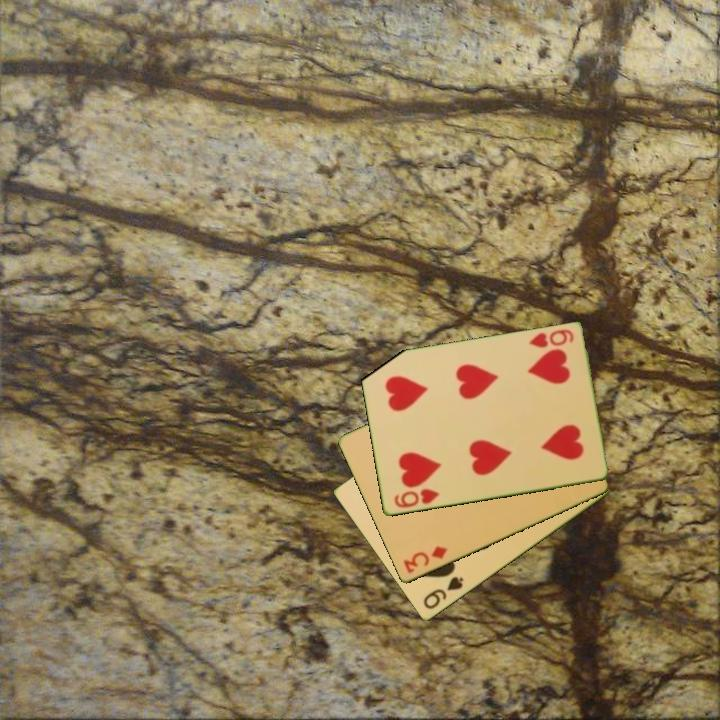3d: (400, 543, 450, 576)
6h: (390, 485, 442, 511), (525, 326, 577, 351)
9s: (419, 573, 467, 613)
